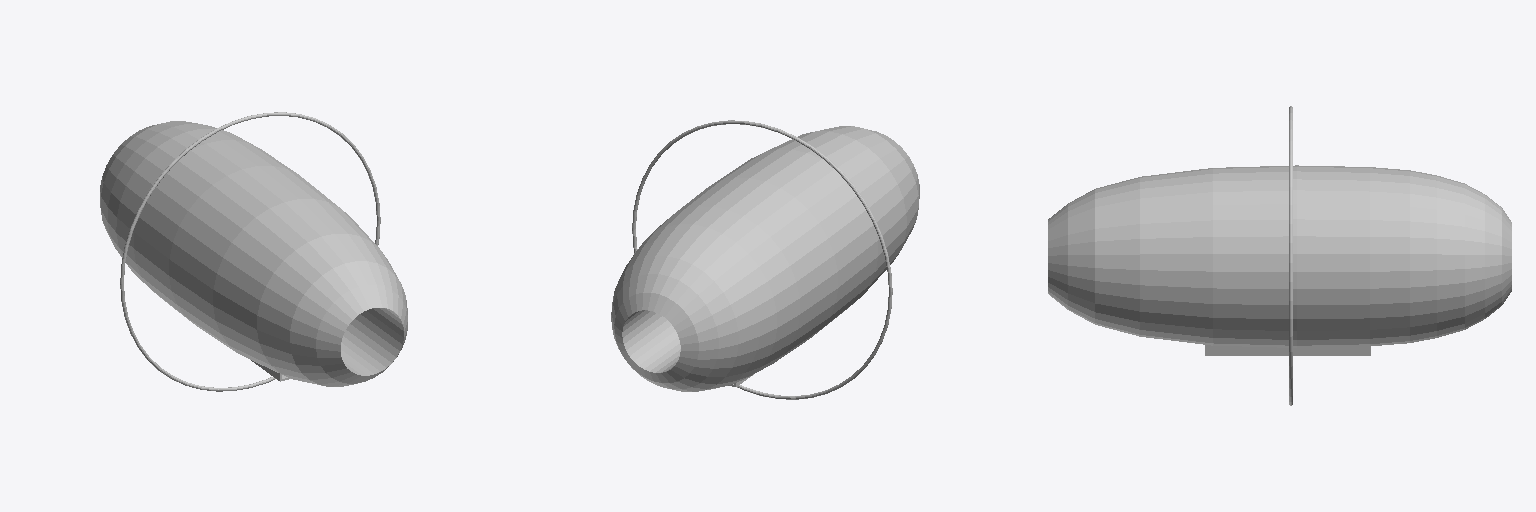
File: zep.obj
The picture shows the model from 3 angles: view 1: azimuth 30°, elevation 25°; view 2: azimuth 150°, elevation 25°; view 3: azimuth 270°, elevation 25°; orthographic projection.
Parts seen in each view (by area): view 1: Sphere, Torus; view 2: Sphere, Torus; view 3: Sphere, Cube_Cube.001, Torus.
Boxes of the visible parts, box(x1,y1,x2,y2) form: Sphere: box(100, 121, 407, 386); Torus: box(120, 112, 380, 391); Sphere: box(611, 126, 919, 391); Torus: box(632, 120, 892, 399); Sphere: box(1048, 165, 1511, 347); Cube_Cube.001: box(1205, 345, 1370, 355); Torus: box(1289, 106, 1292, 405).
Size of the model in its own units: 3.12 by 3.12 by 4.83.